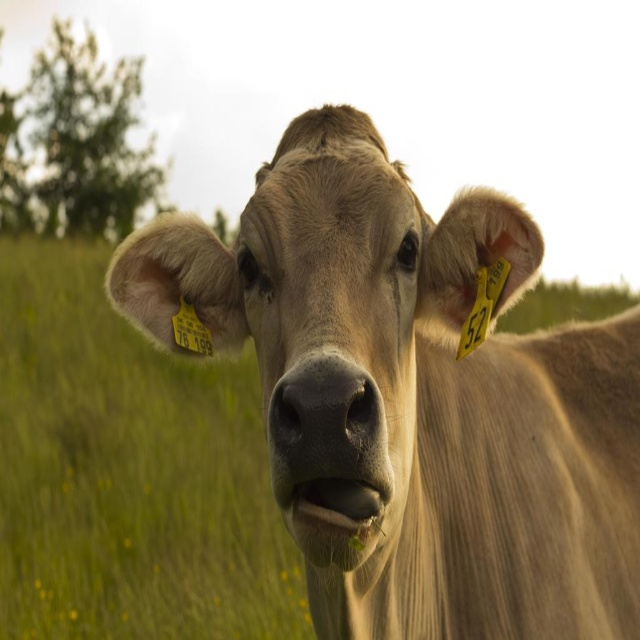Cattle: (103, 103, 640, 640)
